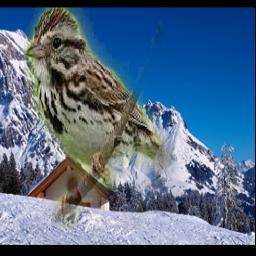Sparrow: (25, 7, 216, 230)
